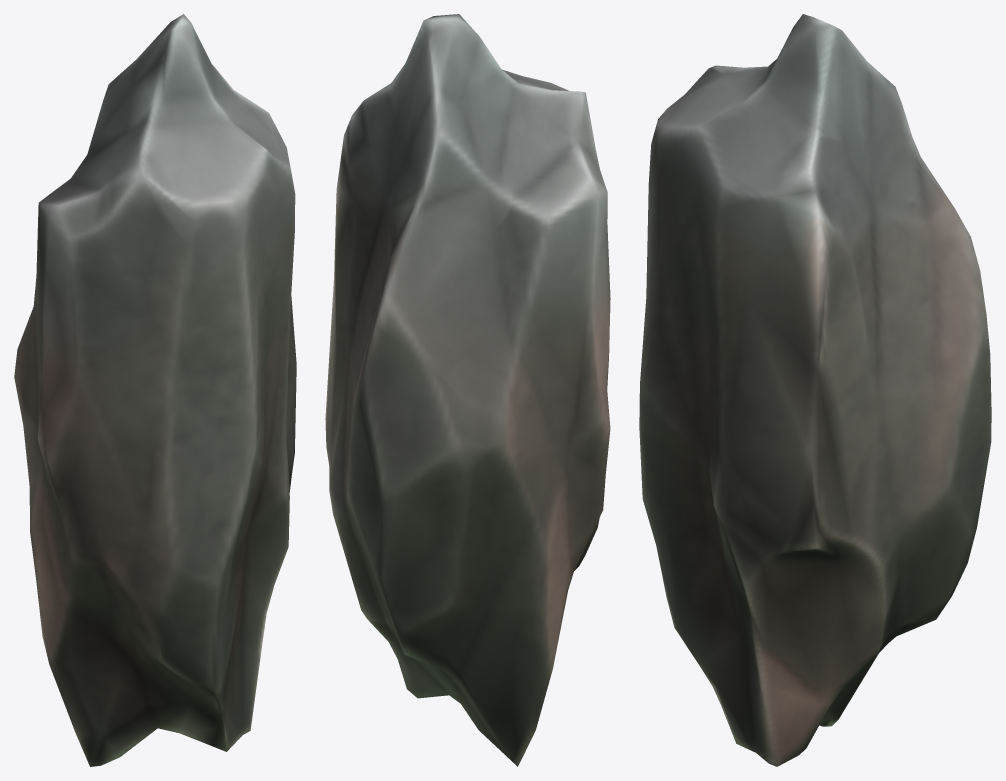
The model's file is o3_roccia_15.glb.
The picture shows the model from 3 angles, left to right: view 1: azimuth 30°, elevation 25°; view 2: azimuth 150°, elevation 25°; view 3: azimuth 270°, elevation 25°; orthographic projection. The views are drawn at different scales.
Parts seen in each view (by area): view 1: sb_modello; view 2: sb_modello; view 3: sb_modello.
Boxes of the visible parts, x1=… form: sb_modello: x1=14, y1=14, x2=296, y2=766; sb_modello: x1=325, y1=14, x2=610, y2=766; sb_modello: x1=639, y1=14, x2=991, y2=766.
Size of the model in its own units: 0.8719 by 2.27 by 0.9676.
Materials: 1 (1 with a texture image).
